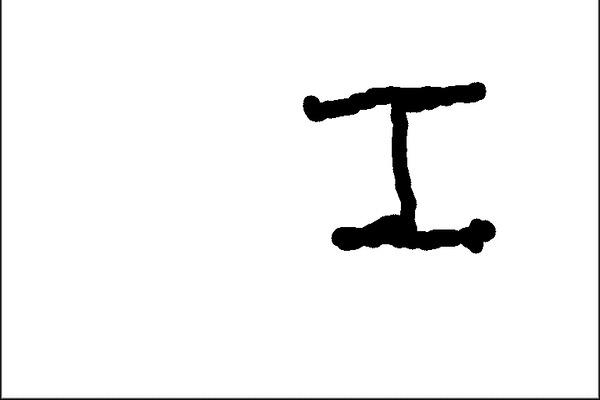i: (294, 67, 528, 270)
